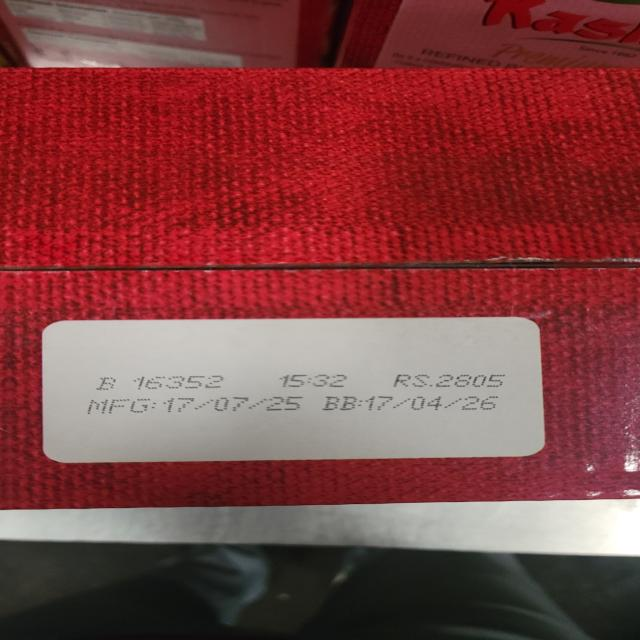BB: (326, 394, 505, 412)
Batch: (97, 369, 232, 394)
MFG: (83, 396, 314, 414)
RS: (392, 370, 513, 393)
TimeStamp: (279, 372, 355, 394)
